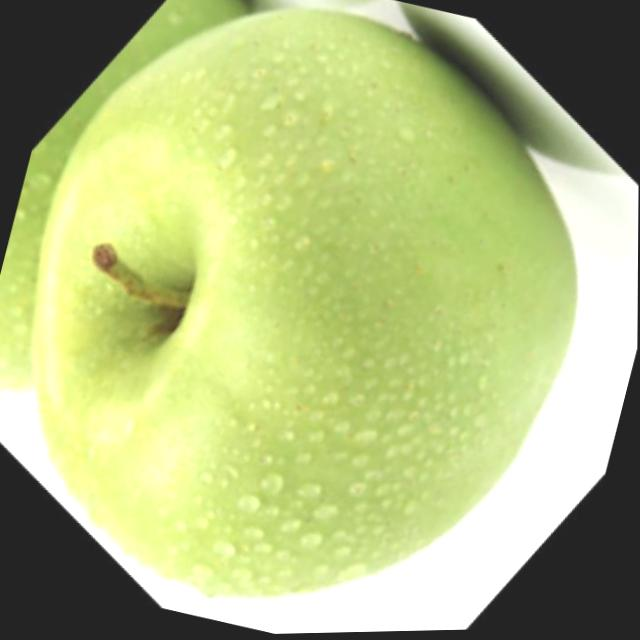Apple: (0, 0, 639, 640), (0, 0, 260, 429)
